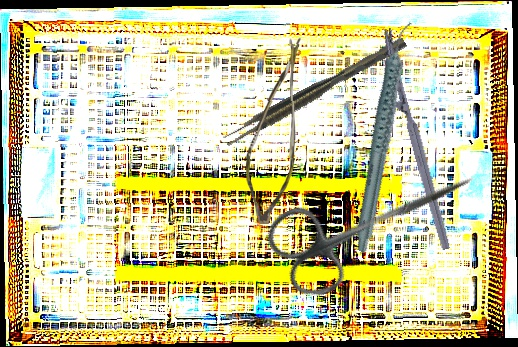Handpiece: (310, 19, 461, 255)
Iris Scissors: (259, 134, 492, 307)
Micro Scissor: (243, 35, 305, 225)
Needle Holder: (352, 27, 452, 259)
Tissue Forceps: (221, 36, 410, 149)
